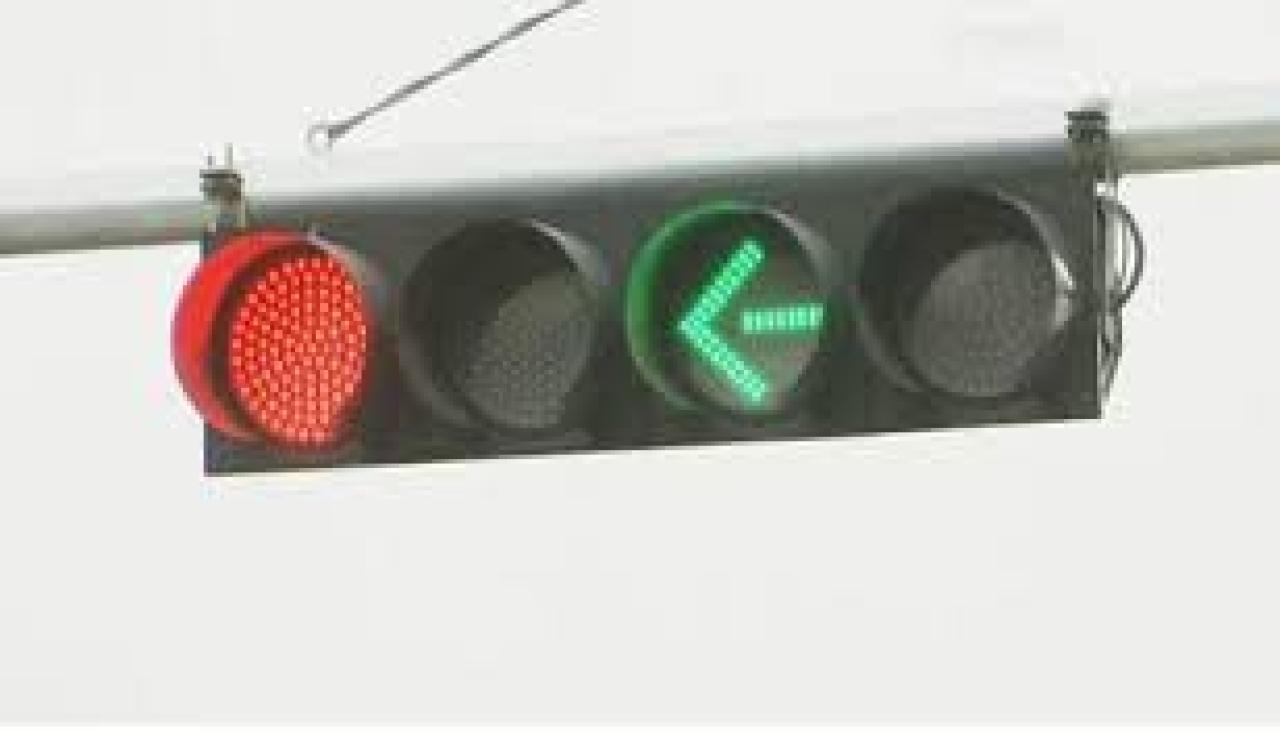Left turn: (622, 184, 855, 439)
Red Light: (170, 218, 408, 471)
